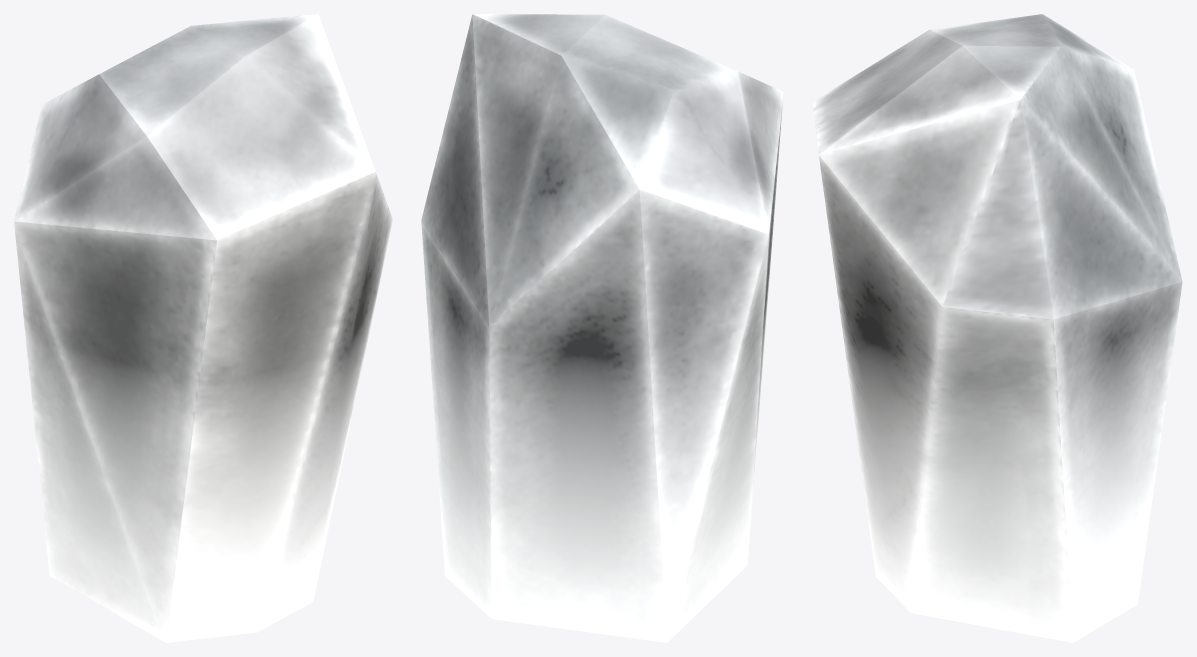
File: crystal_piece_003.fbx
The picture shows the model from 3 angles, left to right: view 1: azimuth 30°, elevation 25°; view 2: azimuth 150°, elevation 25°; view 3: azimuth 270°, elevation 25°; orthographic projection.
Visible parts, largest first — view 1: crystal_piece_003; view 2: crystal_piece_003; view 3: crystal_piece_003.
Part boxes in pixels (left/top/right/bottom): crystal_piece_003: left=14, top=14, right=392, bottom=642; crystal_piece_003: left=421, top=14, right=783, bottom=642; crystal_piece_003: left=812, top=14, right=1182, bottom=642.
Size of the model in its own units: 0.4903 by 0.7536 by 0.4632.
1 material, 1 textured.
